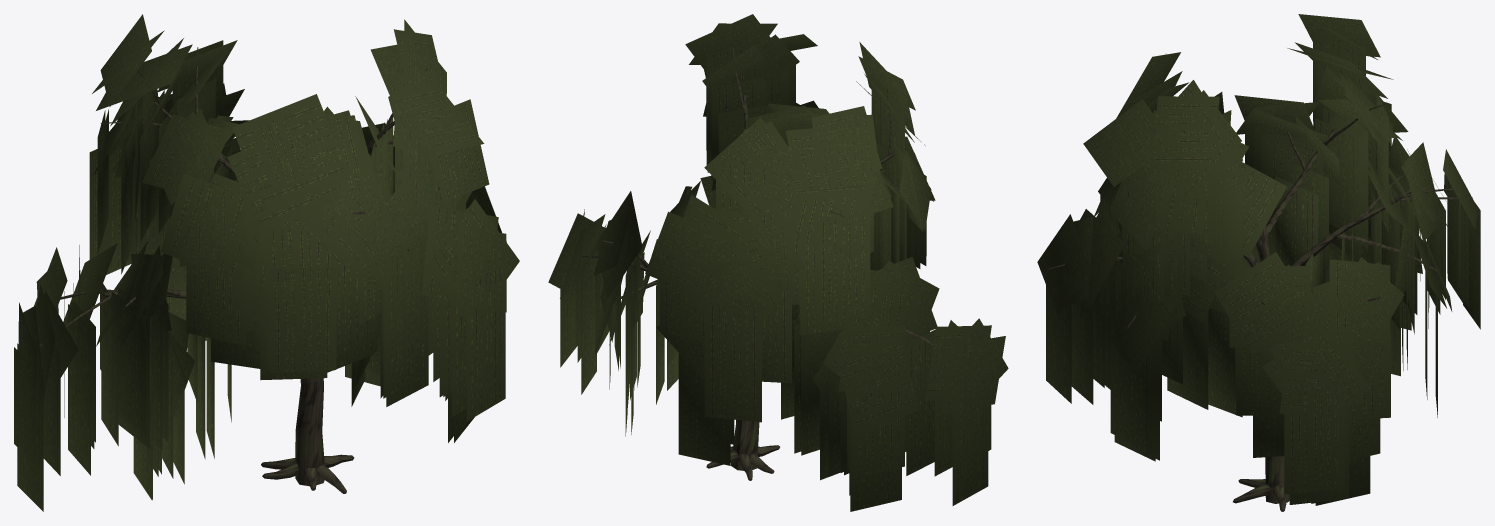
File: MarshWillow_2_LOD1.gltf
3 views of the same model, side by side, from view 1: azimuth 30°, elevation 25°; view 2: azimuth 150°, elevation 25°; view 3: azimuth 270°, elevation 25° (orthographic). The views are drawn at different scales.
Parts seen in each view (by area): view 1: MarshWillow_2_LOD1; view 2: MarshWillow_2_LOD1; view 3: MarshWillow_2_LOD1.
Part boxes in pixels (<box>): MarshWillow_2_LOD1: <box>14,14,519,511</box>; MarshWillow_2_LOD1: <box>548,14,1008,511</box>; MarshWillow_2_LOD1: <box>1037,14,1480,511</box>.
Bounding box in the file's own units: 14.89 × 14.03 × 12.91.
2 materials, 2 textured.
